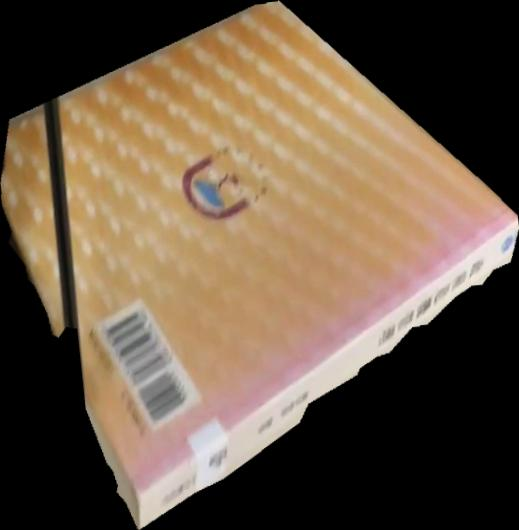flat: (1, 1, 519, 530)
